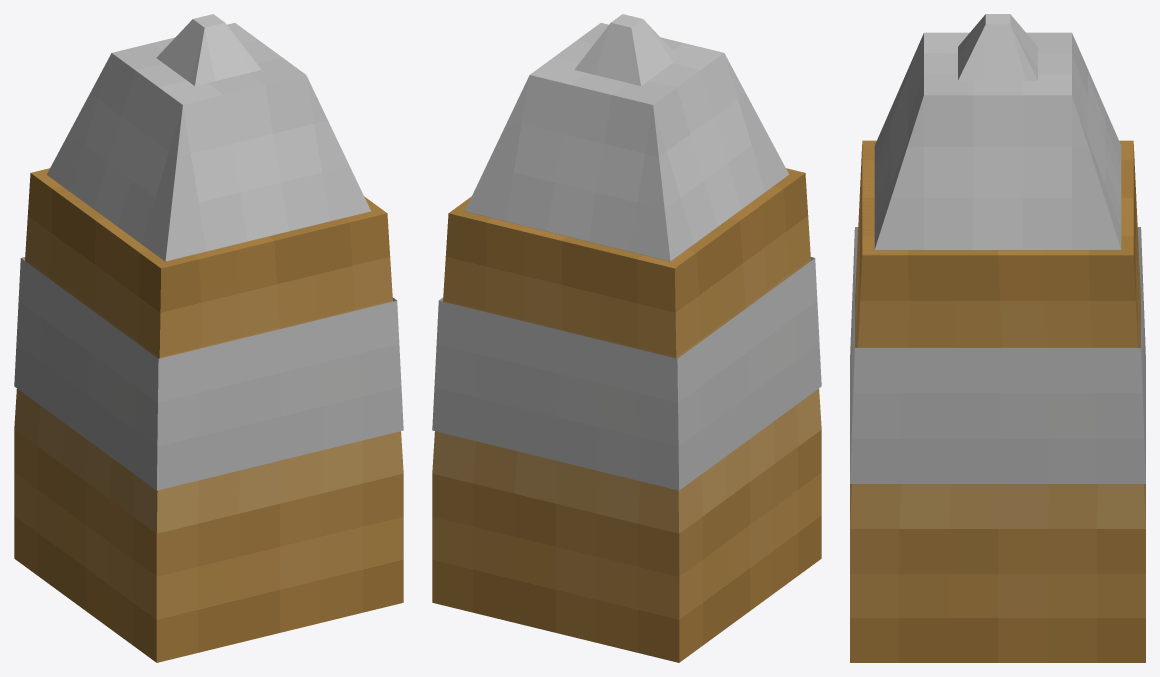
The model's file is artillery_6bcal.obj.
3 renders of one model, left to right at view 1: azimuth 30°, elevation 25°; view 2: azimuth 150°, elevation 25°; view 3: azimuth 270°, elevation 25°, orthographic. The views are drawn at different scales.
Visible parts, largest first — view 1: casing, paint, core_shaped, core_piercing, core_canister, casing_simple; view 2: casing, paint, core_shaped, core_piercing, core_canister, casing_simple; view 3: casing, core_shaped, paint, core_piercing, core_canister, casing_simple.
Boxes of the visible parts, box(x1,y1,x2,y2) form: casing: box(14, 168, 403, 662); paint: box(14, 257, 403, 490); core_shaped: box(47, 23, 371, 261); core_piercing: box(156, 14, 261, 85); core_canister: box(112, 23, 305, 104); casing_simple: box(34, 168, 385, 267); casing: box(432, 168, 821, 662); paint: box(432, 257, 821, 490); core_shaped: box(464, 23, 788, 261); core_piercing: box(574, 14, 679, 85); core_canister: box(531, 23, 723, 104); casing_simple: box(449, 168, 801, 267); casing: box(850, 140, 1145, 662); core_shaped: box(874, 32, 1121, 250); paint: box(850, 227, 1145, 483); core_piercing: box(958, 14, 1037, 80); core_canister: box(924, 32, 1071, 95); casing_simple: box(862, 140, 1133, 255).
Size of the model in its own units: 0.375 by 0.8125 by 0.375.
